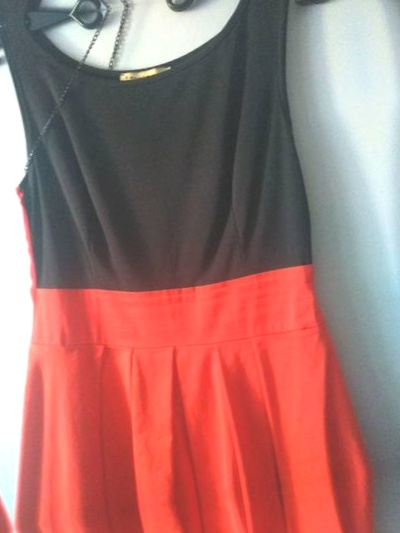Dress: (0, 0, 384, 529), (14, 469, 400, 533), (0, 0, 303, 29), (0, 44, 14, 533), (390, 0, 400, 456), (0, 529, 92, 533)
